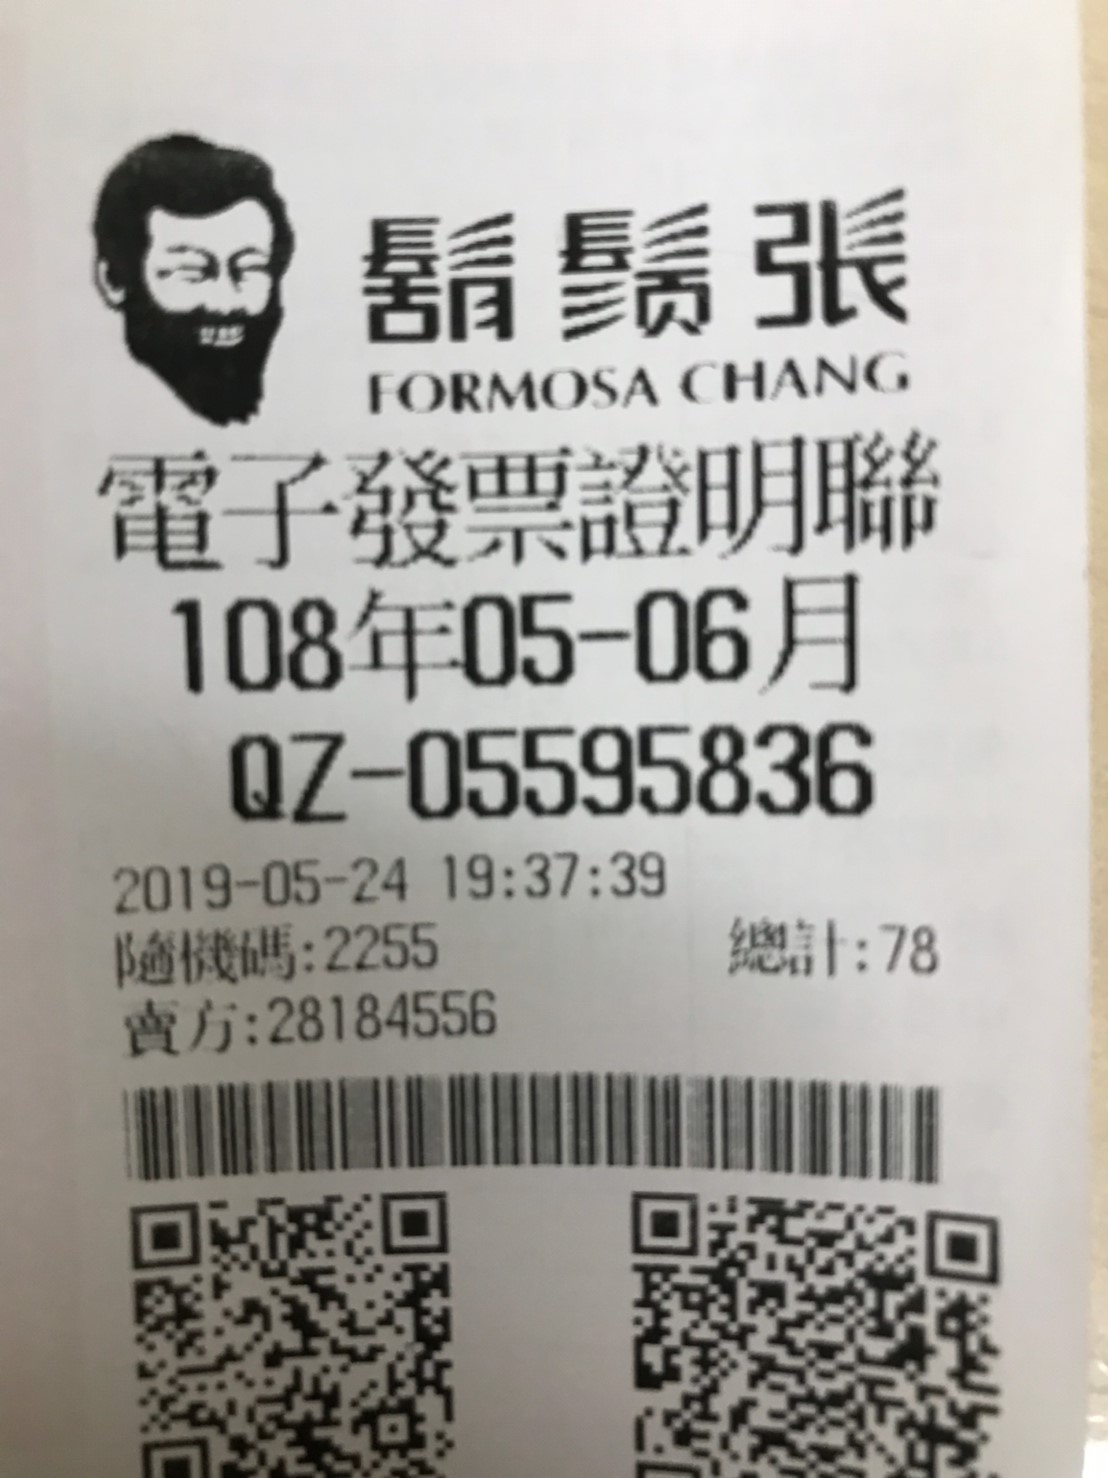Date_New: (166, 574, 865, 701)
Number_New: (405, 719, 882, 824)
